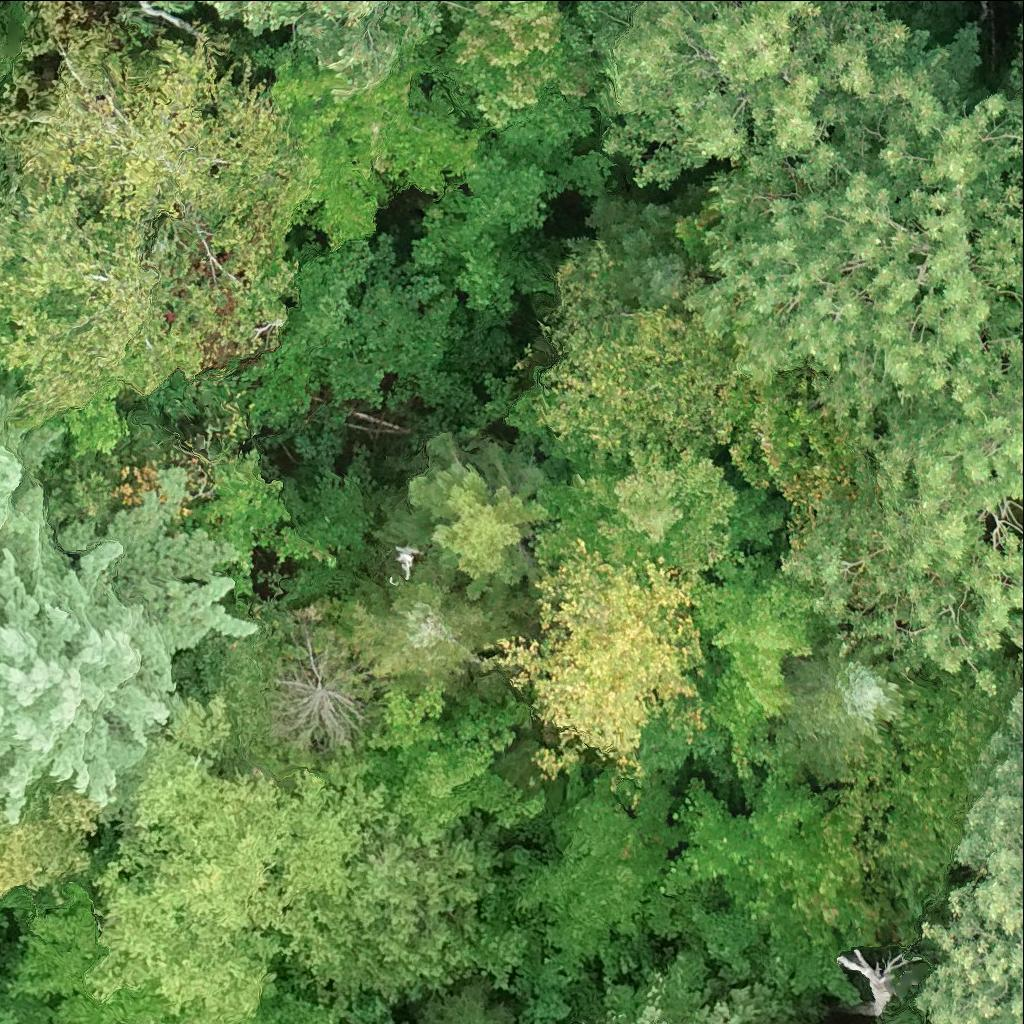crown: (0, 0, 315, 364), (687, 93, 1023, 425), (0, 468, 249, 817), (782, 347, 1023, 694), (114, 694, 383, 976), (581, 0, 958, 186), (0, 147, 202, 454), (660, 772, 920, 1007), (839, 638, 1023, 935), (511, 765, 694, 1023), (316, 781, 529, 1001), (498, 551, 702, 770), (245, 231, 459, 428), (266, 53, 481, 249), (918, 697, 1023, 1023), (413, 80, 591, 268), (84, 859, 288, 1023), (536, 307, 738, 466), (708, 366, 869, 557), (673, 548, 809, 769), (368, 676, 546, 836), (538, 436, 730, 583), (171, 449, 339, 598), (201, 0, 441, 94), (445, 0, 606, 129), (409, 470, 547, 598), (352, 583, 494, 678), (0, 399, 70, 590), (587, 189, 694, 307), (271, 624, 368, 745), (0, 779, 99, 897), (811, 659, 903, 740), (839, 949, 913, 1015), (236, 982, 346, 1023), (700, 987, 789, 1023), (636, 1003, 665, 1023), (156, 0, 183, 9)
